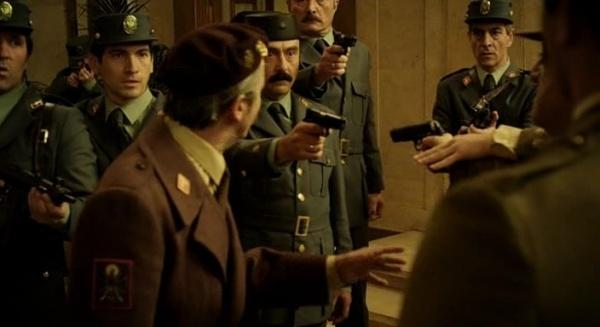Gun: (0, 161, 78, 211), (389, 120, 448, 150), (304, 106, 346, 138), (333, 31, 359, 56)
